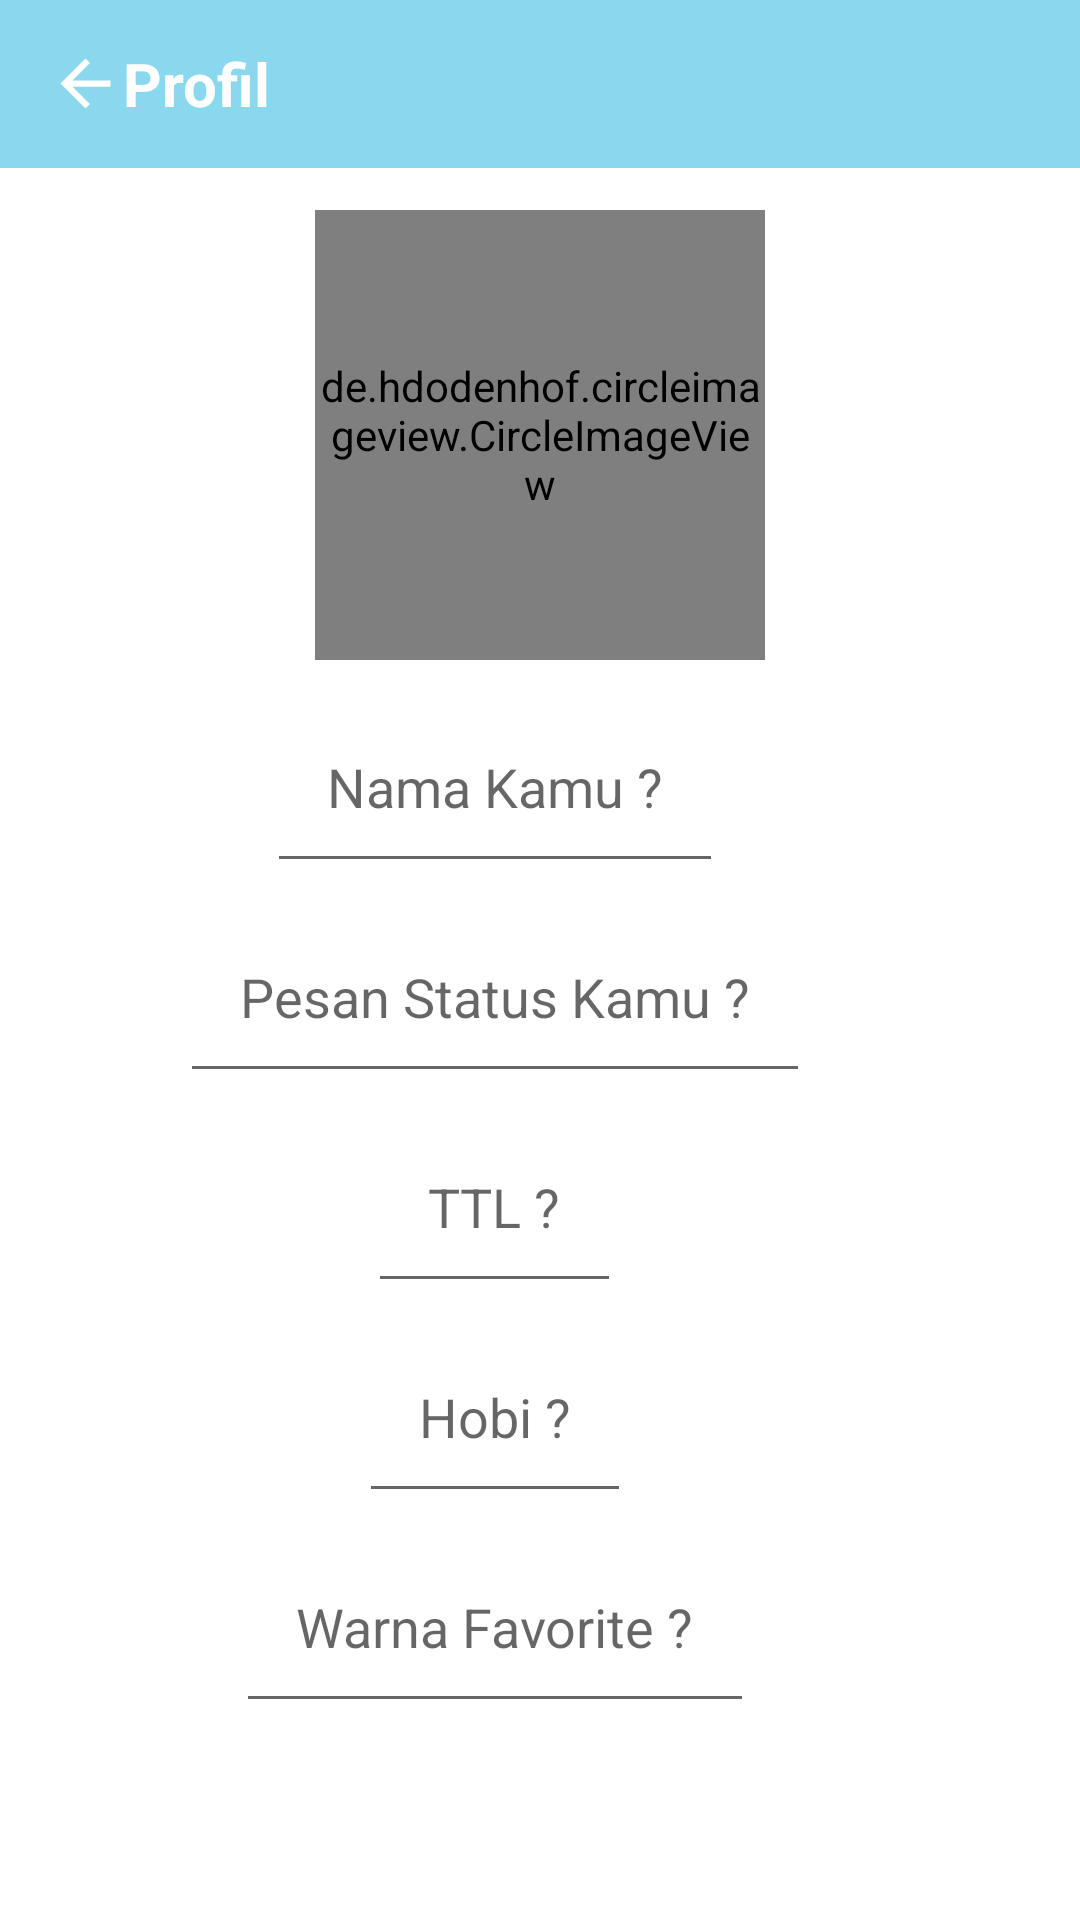

Icons on this 1080px×1920px Android screen, each with its box as (left=x1, top=y1, right=x2, bottom=y2):
arrow back: (left=60, top=58, right=111, bottom=109)
